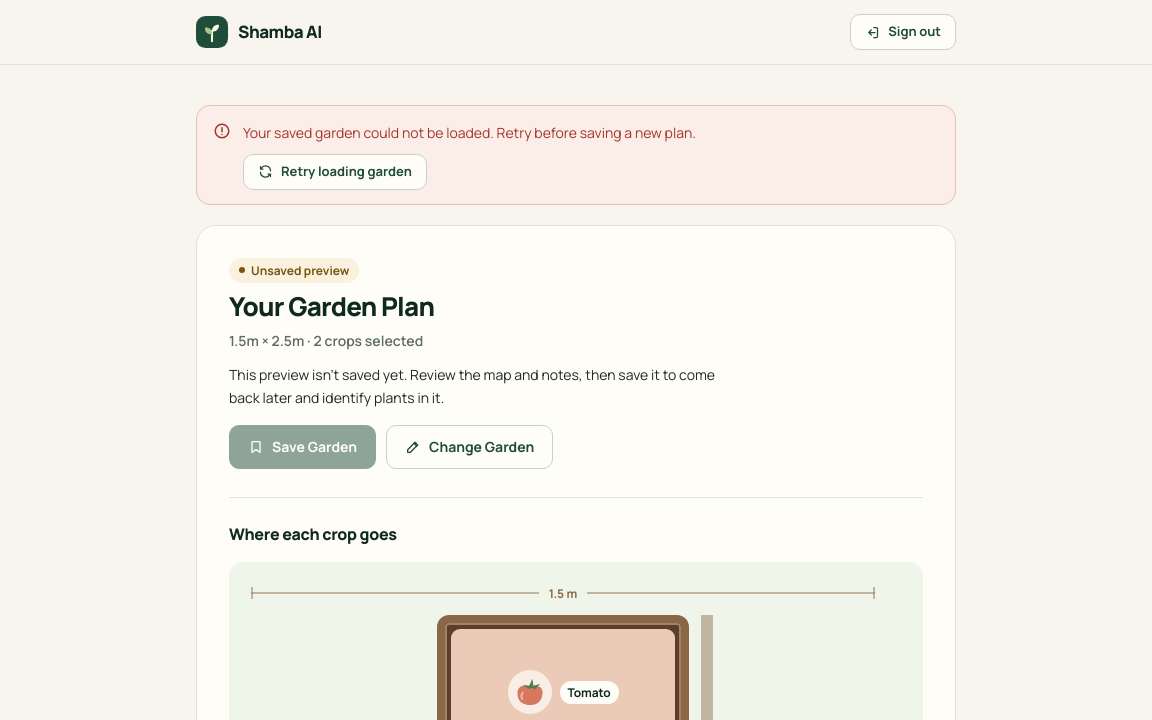
Test: saved garden journey with simulated server responses › retries restoration without discarding the generated preview
The width and height of the screenshot is (1152, 720).
Expected: the message is shown, [196, 105, 956, 205]
Click the button "Retry loading garden": [335, 172] box [243, 154, 427, 190]
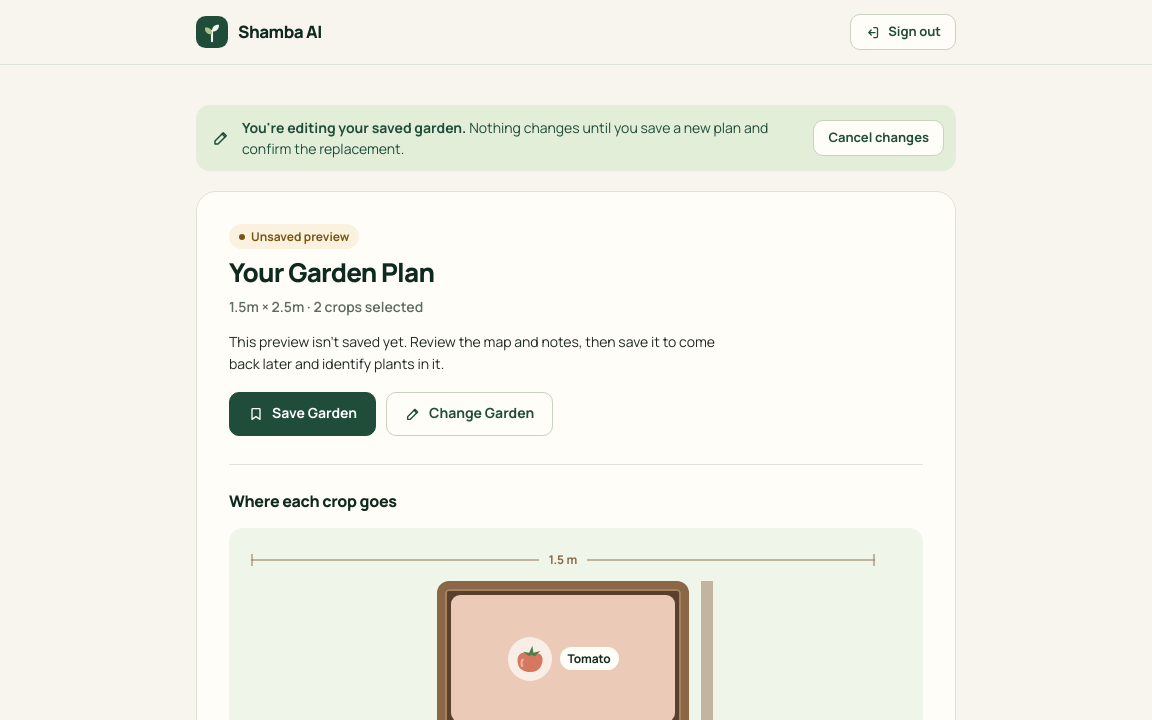
Expected: the heading "Your Garden Plan" is shown, [229, 257, 434, 288]
Now the button "Save Garden" is enabled, box [229, 392, 376, 436]
Now the message is gone
